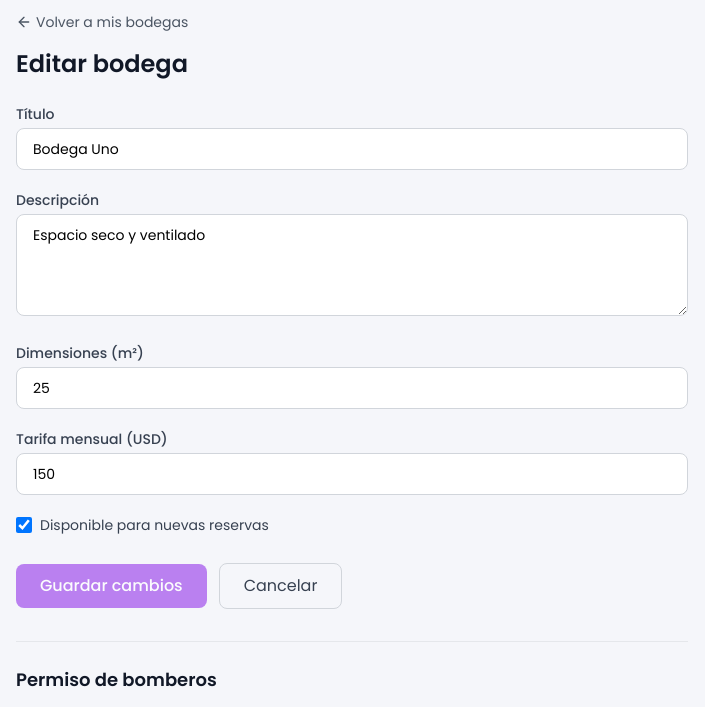
Scenario: EditarBodega › maps server-side validation errors from a 422 onto the fields
The width and height of the screenshot is (705, 707).
Replace the text in the number field labelled "Tarifa mensual (USD)" with "99" at coordinates (352, 474), box [16,453,688,495]
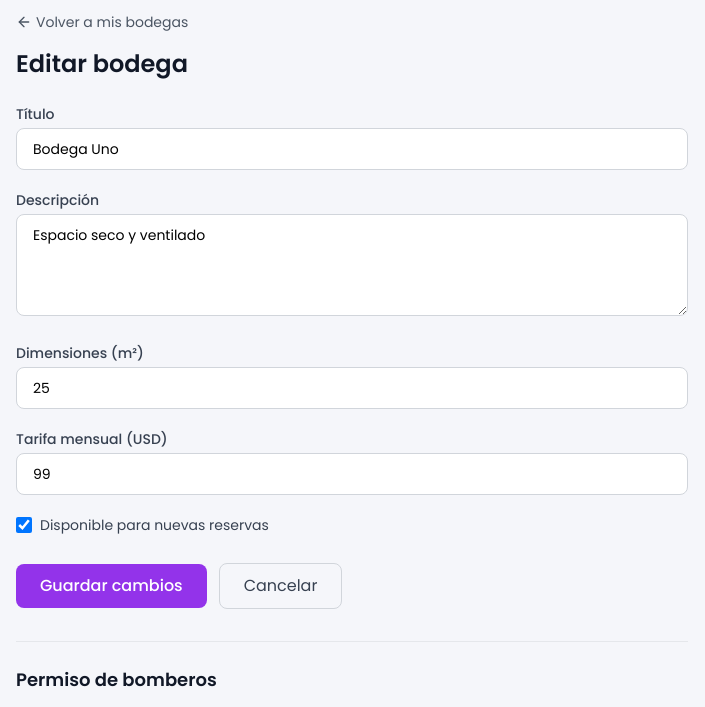
Click the button "Guardar cambios" at coordinates (111, 586), box [16,564,207,608]
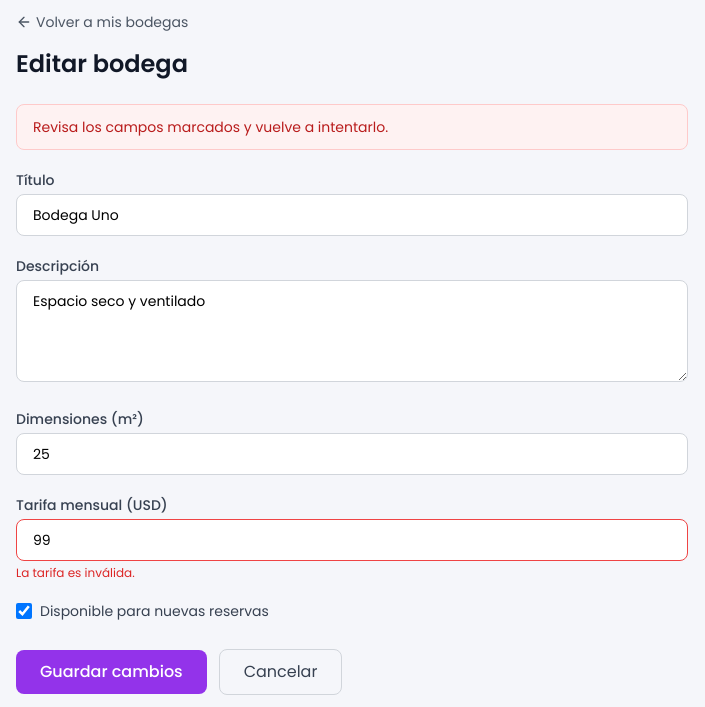
Now the text "La tarifa es inválida." is shown, box [16,564,135,581]
